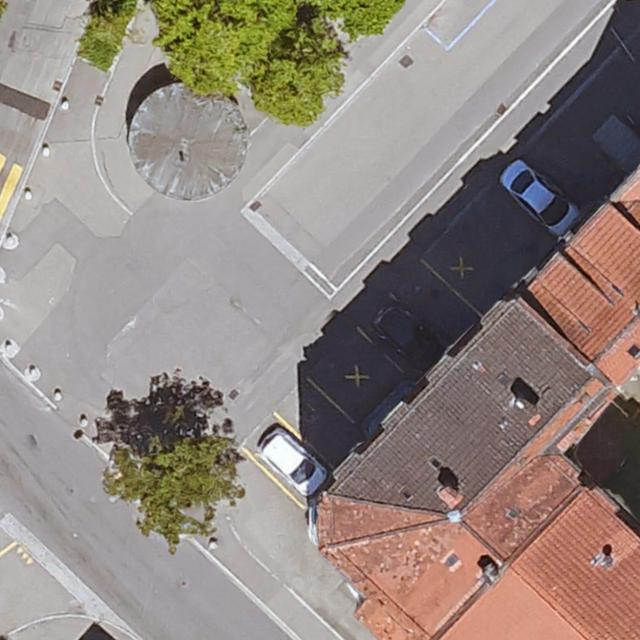tree: (108, 433, 235, 537), (154, 0, 294, 93), (251, 19, 343, 125), (309, 0, 408, 36)
